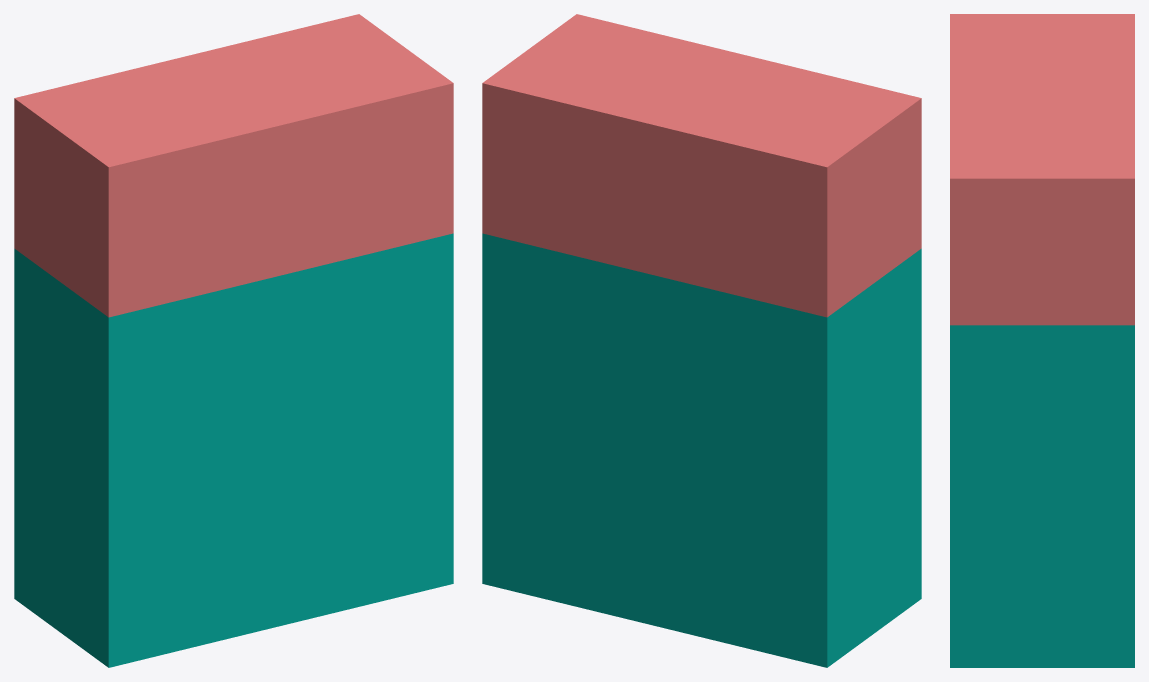
File: Ürün85.fbx
The picture shows the model from 3 angles, left to right: view 1: azimuth 30°, elevation 25°; view 2: azimuth 150°, elevation 25°; view 3: azimuth 270°, elevation 25°; orthographic projection. The views are drawn at different scales.
Visible parts, largest first — view 1: pCube95; view 2: pCube95; view 3: pCube95.
Boxes of the visible parts, x1,y1,x2,y2 form: pCube95: [14, 14, 453, 667]; pCube95: [482, 14, 921, 667]; pCube95: [950, 14, 1134, 667].
Size of the model in its own units: 23.51 by 32.6 by 11.16.
